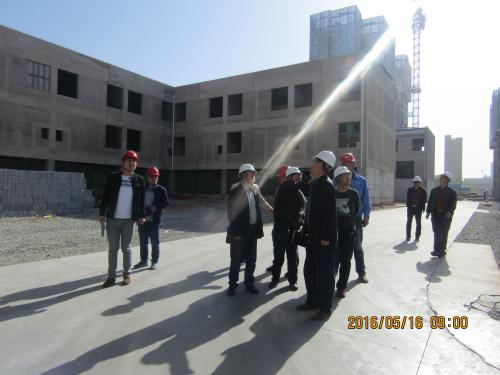boots: (312, 308, 331, 321), (296, 302, 318, 309), (245, 284, 258, 294), (269, 276, 279, 287), (103, 277, 115, 286), (133, 260, 148, 267), (227, 285, 236, 296), (336, 287, 345, 297), (358, 277, 372, 283), (289, 282, 298, 291), (122, 276, 130, 285), (269, 279, 278, 287), (151, 261, 157, 269)
hard-hat: (312, 149, 336, 168), (238, 163, 257, 175), (122, 150, 138, 161), (147, 165, 160, 176)
person: (295, 150, 338, 321), (98, 150, 146, 287), (225, 162, 274, 296), (133, 165, 169, 269)
